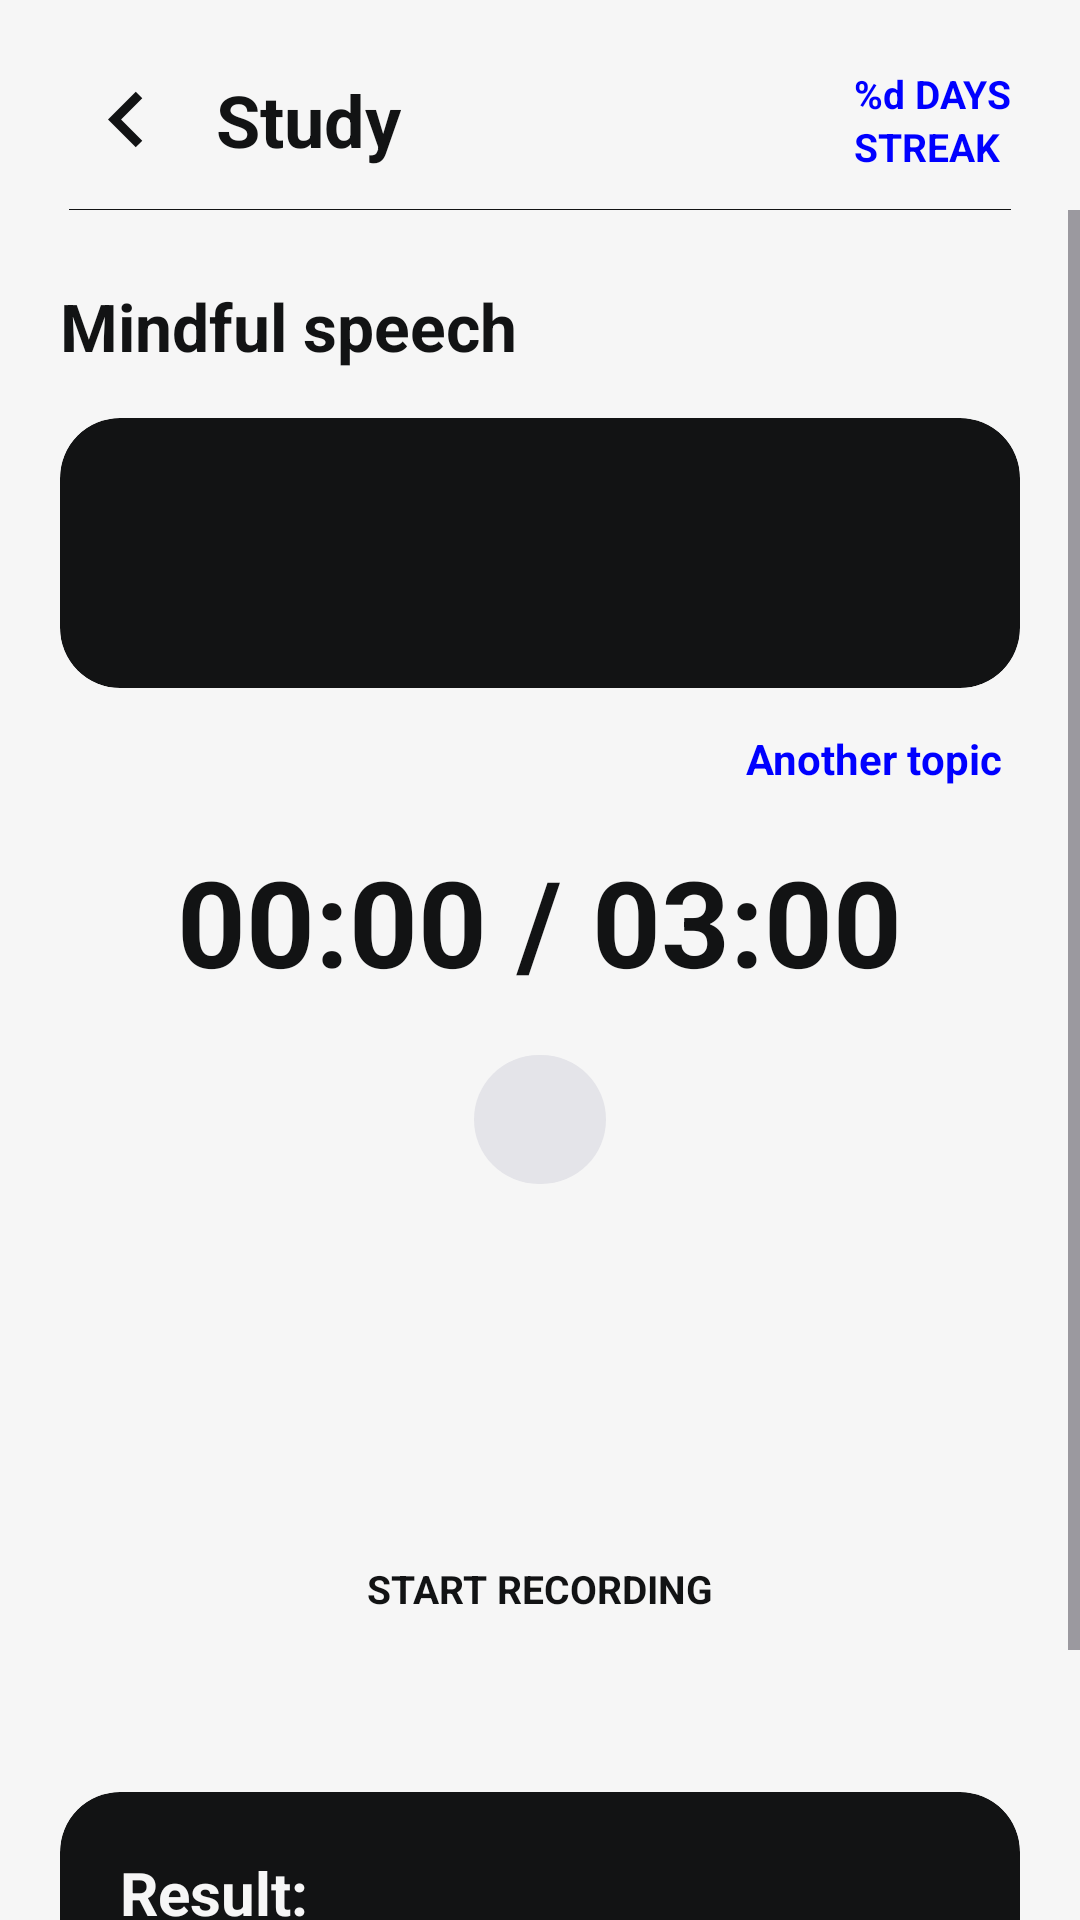

Icon click points for this 1080w x 1920h phone screenshot, format point (x, y):
arrow left: point (125, 119)
